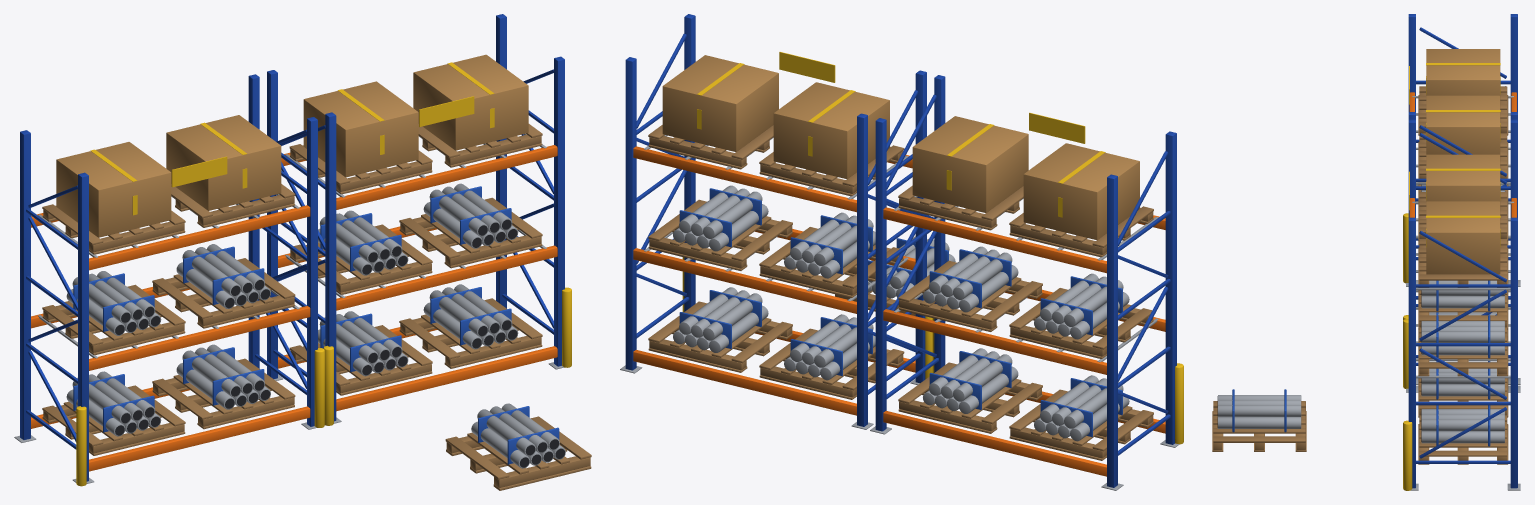
The model's file is Station_RawMaterialStore.fbx.
3 renders of one model, left to right at view 1: azimuth 30°, elevation 25°; view 2: azimuth 150°, elevation 25°; view 3: azimuth 270°, elevation 25°, orthographic. The views are drawn at different scales.
Visible parts, largest first — view 1: Rack B, Rack A, Staged Pallet, Column Guards; view 2: Rack B, Rack A, Staged Pallet, Column Guards; view 3: Rack A, Rack B, Staged Pallet, Column Guards.
Boxes of the visible parts, box(x1,y1,x2,y2) form: Rack B: box(14, 74, 317, 483); Rack A: box(267, 14, 564, 423); Staged Pallet: box(445, 403, 591, 490); Column Guards: box(76, 287, 571, 486); Rack B: box(870, 75, 1179, 490); Rack A: box(620, 14, 926, 429); Staged Pallet: box(835, 236, 955, 315); Column Guards: box(682, 257, 1183, 444); Rack A: box(1406, 119, 1520, 490); Rack B: box(1406, 14, 1520, 384); Staged Pallet: box(1212, 389, 1306, 451); Column Guards: box(1403, 213, 1412, 490).
Size of the model in its own units: 5.4 by 3.2 by 3.33.
